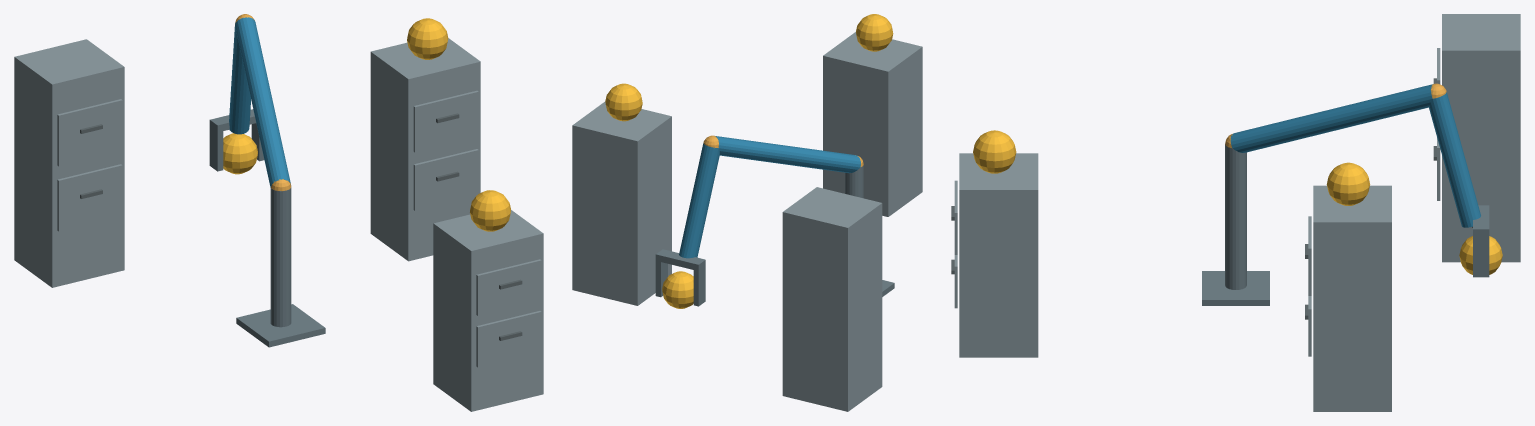
3 renders of one model, left to right at view 1: azimuth 30°, elevation 25°; view 2: azimuth 150°, elevation 25°; view 3: azimuth 270°, elevation 25°, orthographic. The views are drawn at different scales.
Parts seen in each view (by area): view 1: cabinet_3 body, cabinet_2 body, cabinet_1 body, moving link 1, cabinet_3 drawer front, cabinet_3 drawer front.001, cabinet_2 drawer front.001, cabinet_2 drawer front, fixed post, cabinet_1 drawer front, cabinet_1 drawer front.001, pedestal (+5 smaller); view 2: cabinet_3 body, cabinet_2 body, cabinet_1 body, moving link 1, moving link 2, released ball_2, released ball_1, ball ball_3, gripper bridge, fixed post, gripper finger -1, gripper finger 1; view 3: cabinet_2 body, cabinet_3 body, cabinet_1 body, moving link 1, fixed post, moving link 2, pedestal, released ball_1, released ball_2, ball ball_3, gripper finger 1.
Part boxes in pixels (box(x1,y1,x2,y2)): cabinet_3 body: box(14, 39, 124, 287); cabinet_2 body: box(370, 38, 480, 261); cabinet_1 body: box(433, 210, 543, 411); moving link 1: box(235, 17, 290, 187); cabinet_3 drawer front: box(57, 164, 122, 231); cabinet_3 drawer front.001: box(57, 99, 122, 166); cabinet_2 drawer front.001: box(413, 90, 478, 152); cabinet_2 drawer front: box(413, 149, 478, 210); fixed post: box(270, 187, 291, 327); cabinet_1 drawer front: box(476, 311, 541, 367); cabinet_1 drawer front.001: box(476, 259, 541, 315); pedestal: box(236, 304, 325, 347); cabinet_3 body: box(782, 187, 882, 411); cabinet_2 body: box(572, 101, 671, 305); cabinet_1 body: box(823, 32, 922, 216); moving link 1: box(715, 136, 860, 173); moving link 2: box(679, 143, 719, 258); released ball_2: box(605, 83, 642, 121); released ball_1: box(856, 14, 893, 51); ball ball_3: box(662, 271, 693, 308); gripper bridge: box(655, 249, 705, 271); fixed post: box(845, 165, 863, 198); gripper finger -1: box(693, 266, 705, 306); gripper finger 1: box(655, 261, 667, 297); cabinet_2 body: box(1313, 185, 1391, 411); cabinet_3 body: box(1442, 14, 1520, 262); cabinet_1 body: box(959, 153, 1038, 357); moving link 1: box(1230, 84, 1432, 152); fixed post: box(1225, 144, 1246, 289); moving link 2: box(1429, 92, 1480, 227); pedestal: box(1202, 271, 1269, 305); released ball_1: box(973, 130, 1016, 173); released ball_2: box(1326, 162, 1370, 205); ball ball_3: box(1459, 236, 1502, 274); gripper finger 1: box(1473, 236, 1489, 277).
Bounding box in the file's own units: 1.62 × 0.966 × 2.1.
